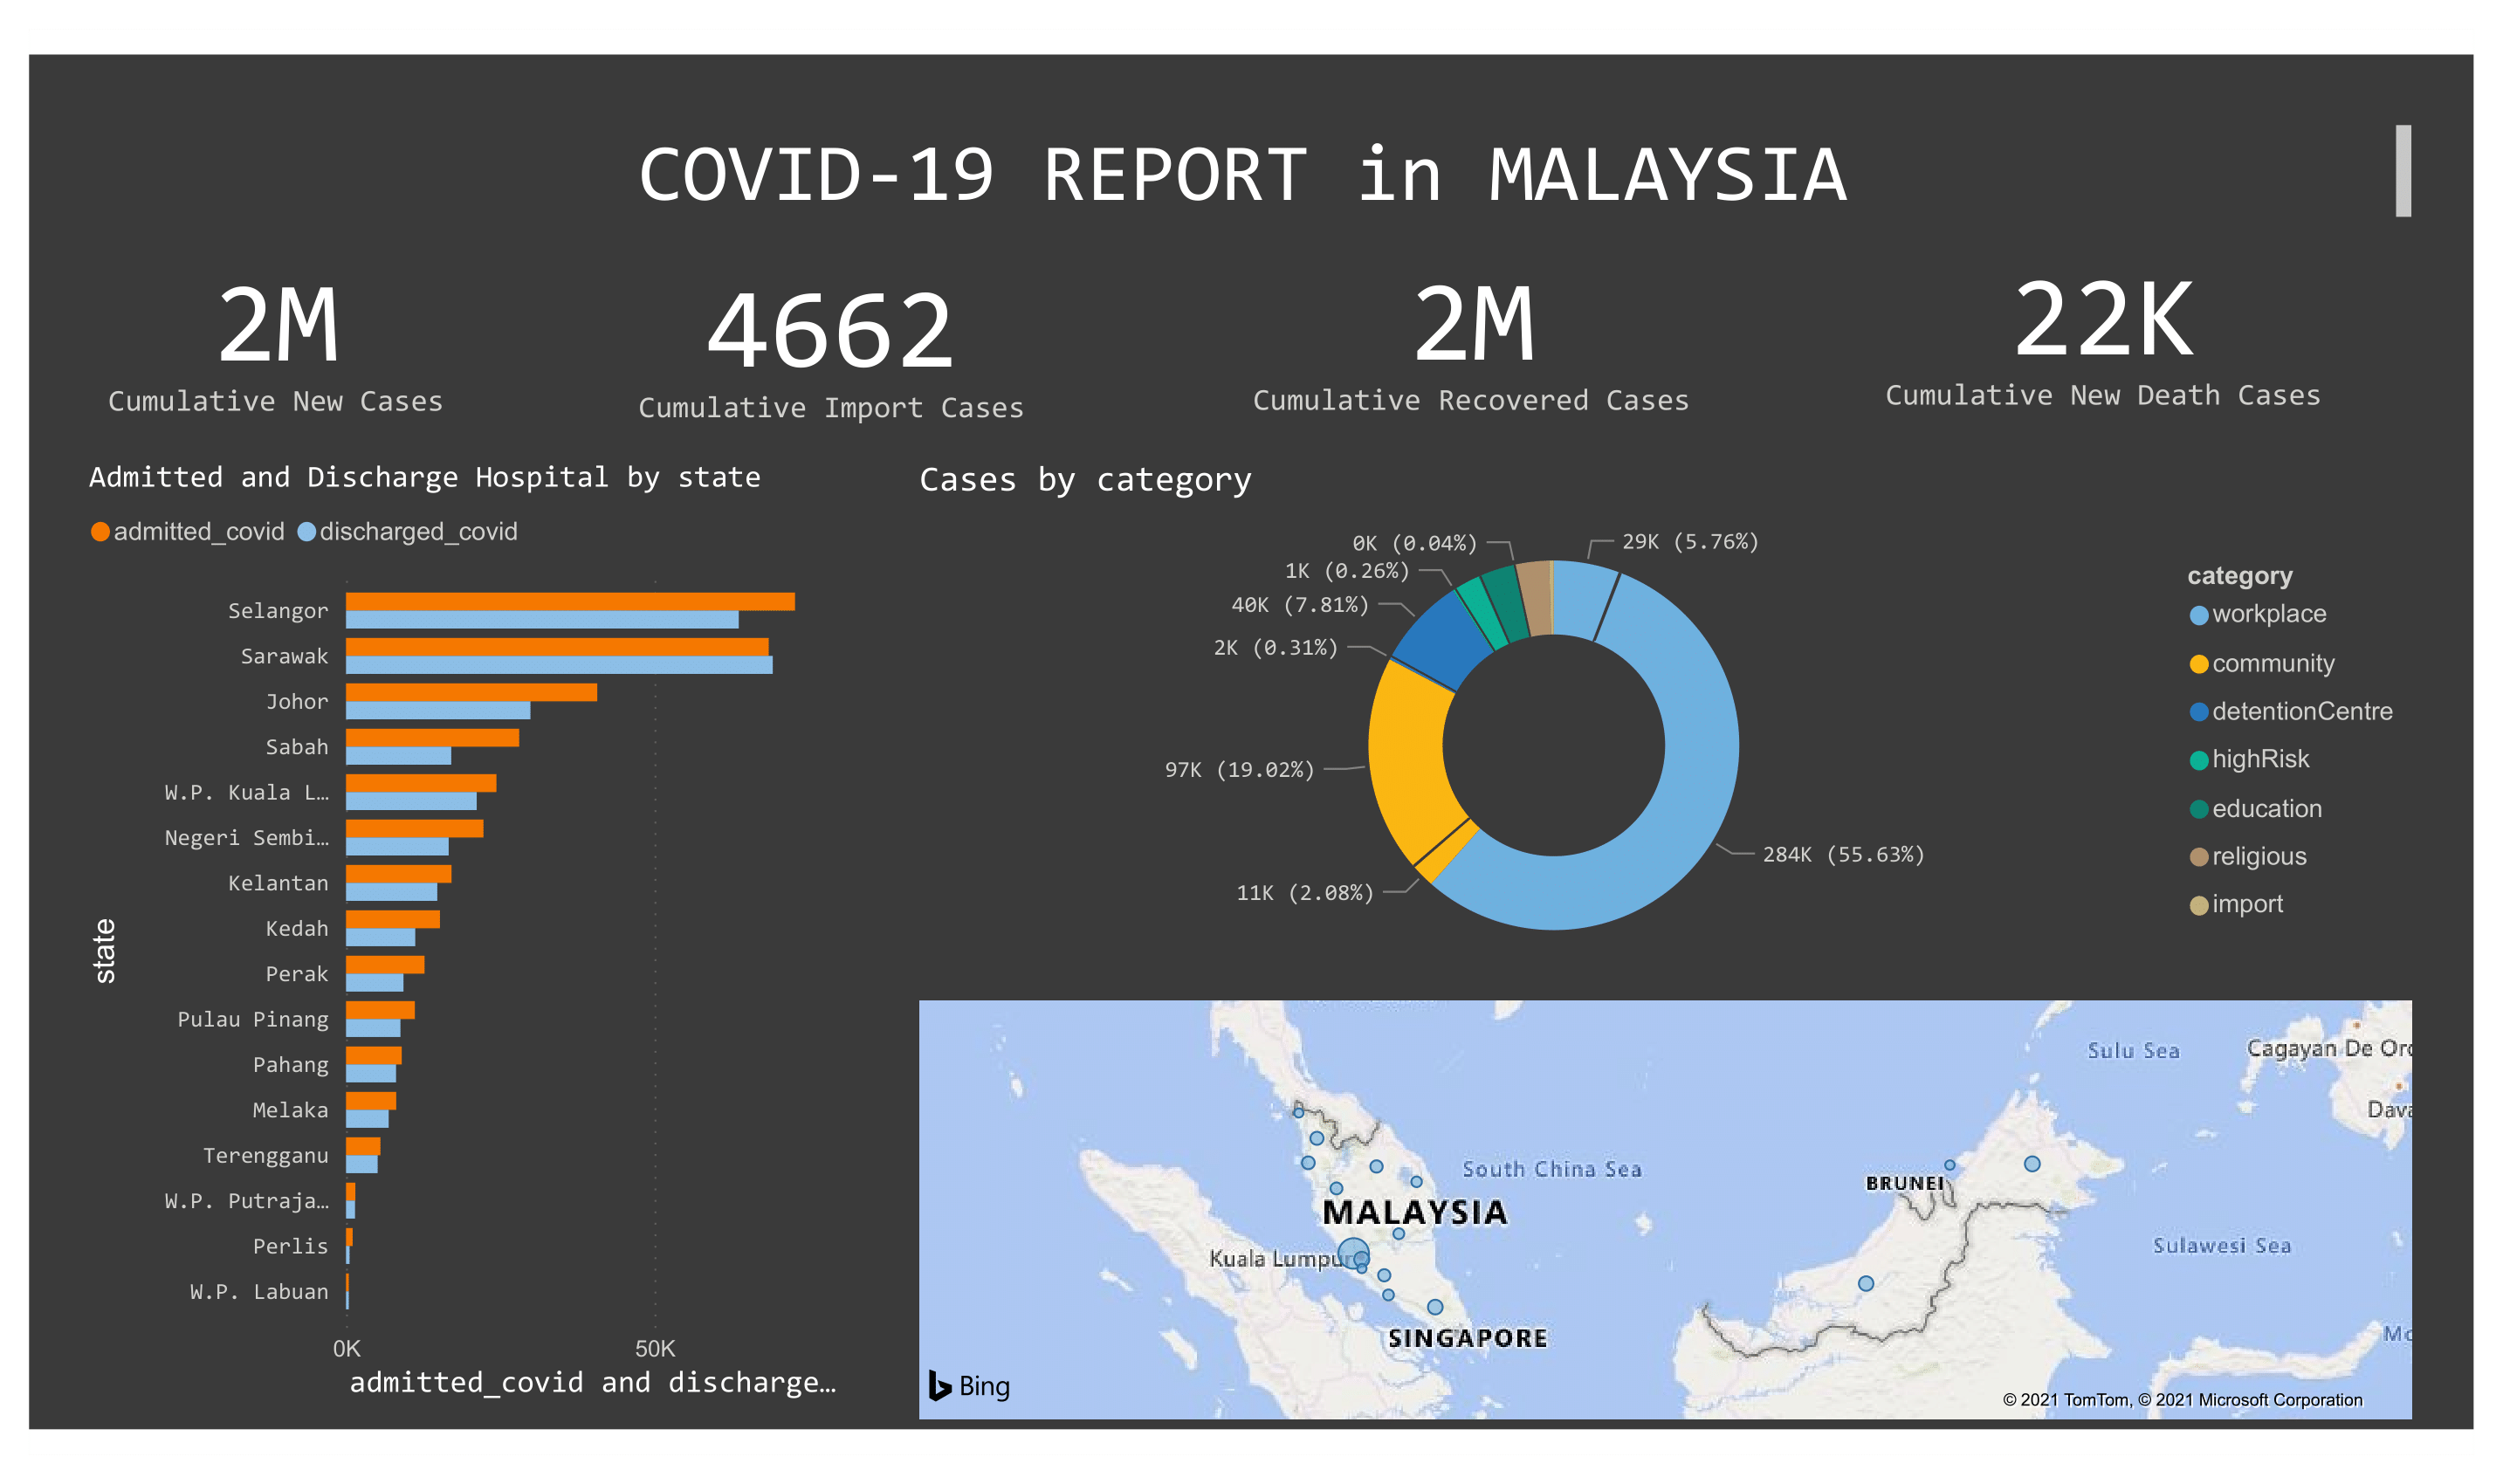

The dashboard page shown, as its layout file describes it:
{"tool":"powerbi","page":{"name":"Page 1","canvas":[1280,720],"ordinal":0},"visuals":[{"type":"card","fields":{"Values":["Sum(cases_malaysia.cases_new)"]},"box":[26.1,92,206,103],"z":0},{"type":"textbox","box":[26.1,31.6,1226.4,59.1],"z":1000},{"type":"card","fields":{"Values":["Sum(cases_malaysia.cases_import)"]},"box":[304.9,92,232.1,109.9],"z":2000},{"type":"card","fields":{"Values":["Sum(cases_malaysia.cases_recovered)"]},"box":[624.9,92,259.6,101.6],"z":3000},{"type":"card","fields":{"Values":["Sum(deaths_malaysia.deaths_new)"]},"box":[940.8,90.6,291.2,100.3],"z":4000},{"type":"map","fields":{"Category":["cases_state.state"],"Size":["Sum(cases_state.cases_new)"]},"box":[461.4,490.6,790.8,229.3],"z":5000},{"type":"donutChart","title":"Cases by category","fields":{"Category":["clusters.category"],"Y":["Sum(clusters.cases_active)","Sum(clusters.cases_new)","Sum(clusters.cases_total)"]},"box":[461.4,211.2,790.8,279.3],"z":6000},{"type":"clusteredBarChart","title":"Admitted and Discharge Hospital by state","fields":{"Category":["hospital.state"],"Y":["Sum(hospital.admitted_covid)","Sum(hospital.discharged_covid)"]},"box":[26.4,211.2,414.2,497.5],"z":7000}]}

Visuals, with their boxes on the page's 1280x720 design canvas (x1, y1, x2, y2). These are canvas units, not pixel positions in the 2503x1484 screenshot, which may show the page scaled, cropped or inside an application window:
card - Sum(cases_malaysia.cases_new): bbox=[26, 92, 232, 195]
textbox: bbox=[26, 32, 1252, 91]
card - Sum(cases_malaysia.cases_import): bbox=[305, 92, 537, 202]
card - Sum(cases_malaysia.cases_recovered): bbox=[625, 92, 884, 194]
card - Sum(deaths_malaysia.deaths_new): bbox=[941, 91, 1232, 191]
map - cases_state.state x Sum(cases_state.cases_new): bbox=[461, 491, 1252, 720]
"Cases by category" donutChart: bbox=[461, 211, 1252, 490]
"Admitted and Discharge Hospital by state" clusteredBarChart: bbox=[26, 211, 441, 709]
